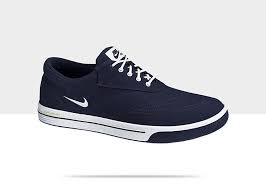nike: (61, 95, 90, 109)
